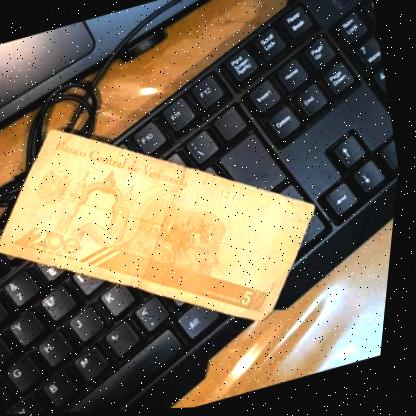five-back-vef: (0, 57, 375, 393)
